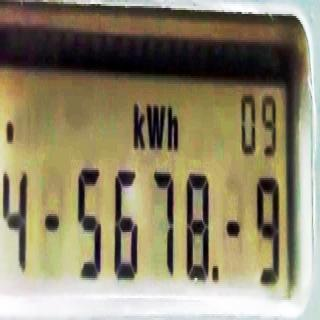-: (45, 210, 58, 240), (4, 117, 15, 145), (210, 258, 220, 288)
0: (239, 84, 257, 166)
4: (2, 158, 29, 276)
5: (75, 157, 103, 289)
6: (112, 160, 140, 287)
7: (152, 158, 176, 284)
8: (183, 167, 210, 294)
9: (255, 170, 281, 297), (261, 82, 277, 166)
